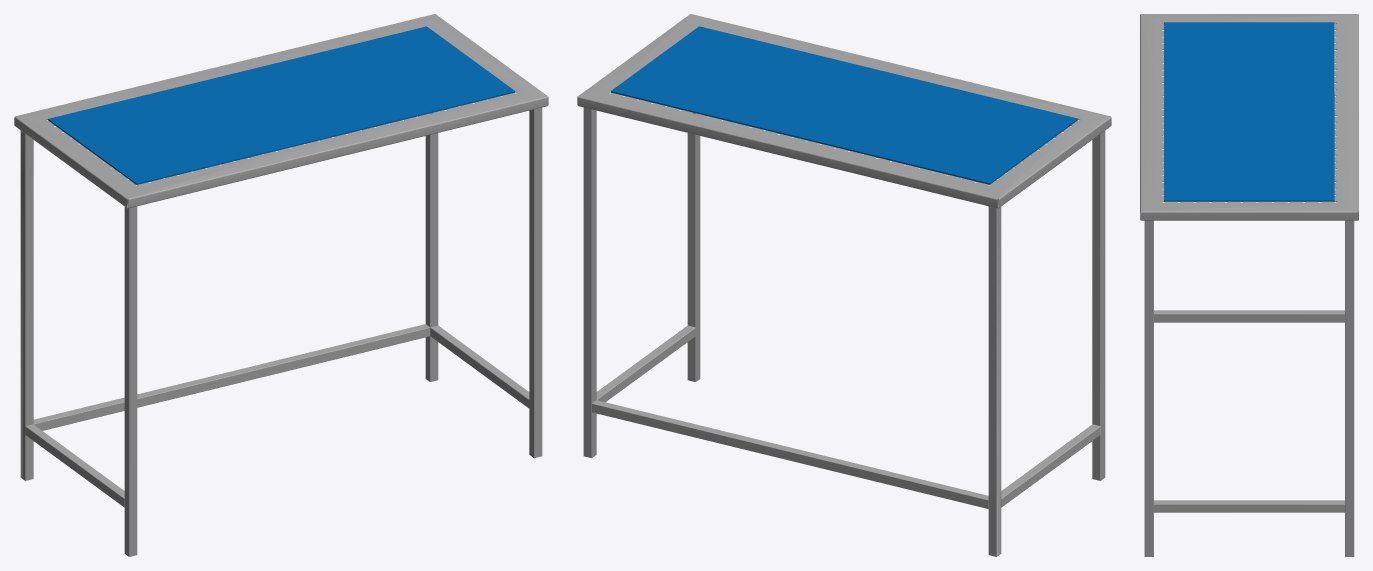
File: Table.glb
3 renders of one model, left to right at view 1: azimuth 30°, elevation 25°; view 2: azimuth 150°, elevation 25°; view 3: azimuth 270°, elevation 25°, orthographic. The views are drawn at different scales.
Visible parts, largest first — view 1: Table.001; view 2: Table.001; view 3: Table.001.
Boxes of the visible parts, <box> form: Table.001: <box>14,14,548,556</box>; Table.001: <box>577,14,1111,556</box>; Table.001: <box>1140,14,1358,556</box>.
Size of the model in its own units: 0.9936 by 0.8147 by 0.4636.
